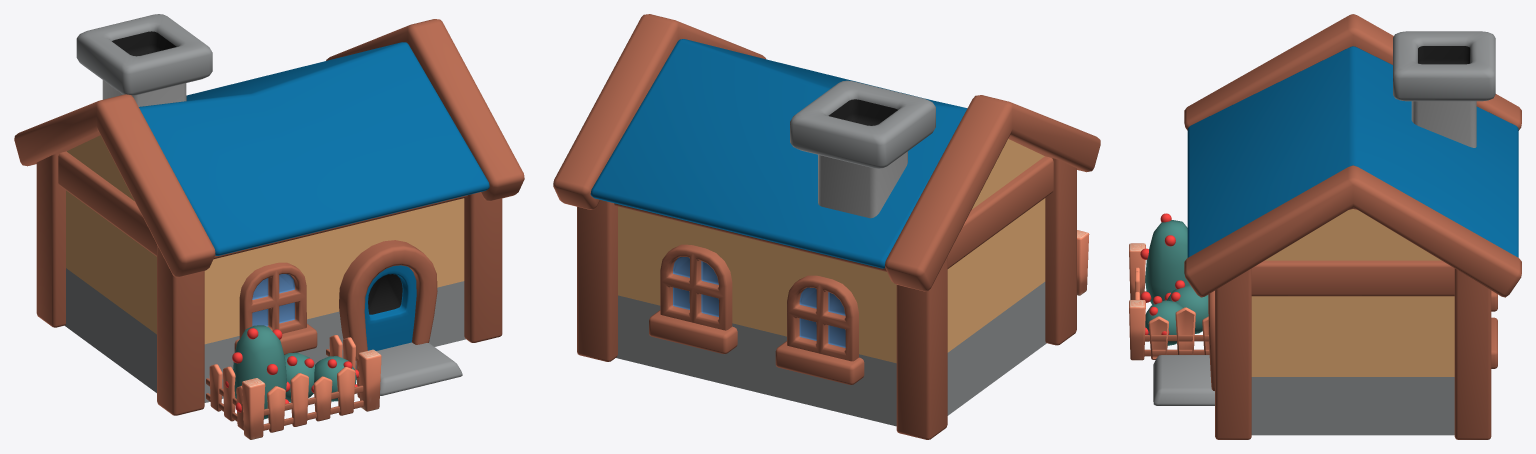
The model's file is house2.fbx.
The picture shows the model from 3 angles, left to right: view 1: azimuth 30°, elevation 25°; view 2: azimuth 150°, elevation 25°; view 3: azimuth 270°, elevation 25°; orthographic projection. The views are drawn at different scales.
Visible parts, largest first — view 1: house2; view 2: house2; view 3: house2.
Boxes of the visible parts, x1,y1,x2,y2 form: house2: [14, 14, 524, 439]; house2: [553, 14, 1100, 439]; house2: [1129, 14, 1521, 439].
Bounding box in the file's own units: 322 × 243 × 318.
